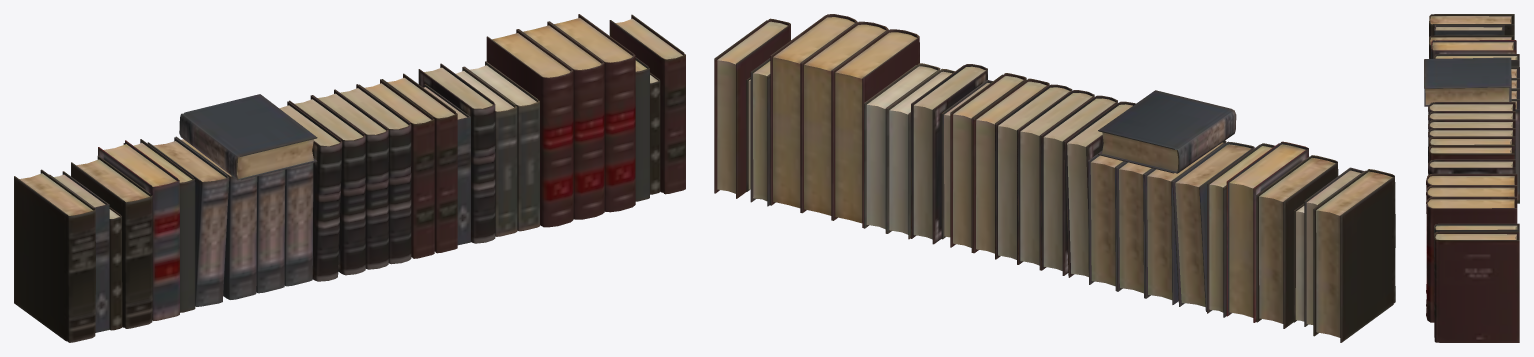
The model's file is SM_BooksSet02_a36328.glb.
The picture shows the model from 3 angles, left to right: view 1: azimuth 30°, elevation 25°; view 2: azimuth 150°, elevation 25°; view 3: azimuth 270°, elevation 25°; orthographic projection. The views are drawn at different scales.
Bounding box in the file's own units: 1.3 × 0.3033 × 0.2274.
1 material, 1 textured.
